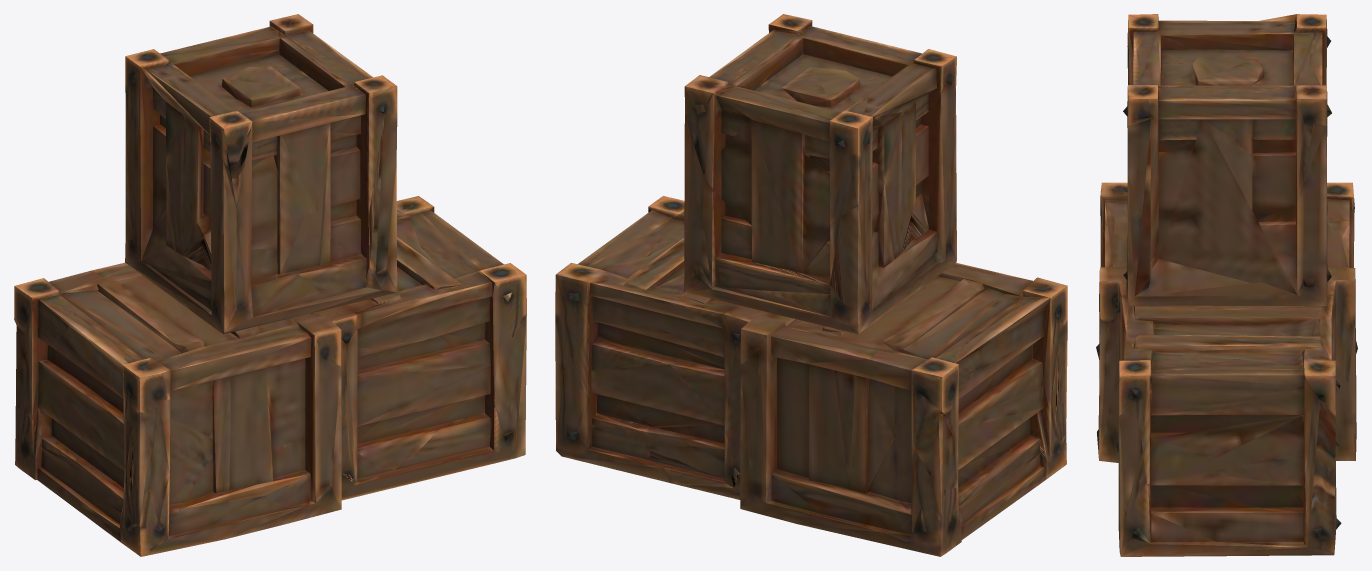
The model's file is crate-stack.low.glb.
3 views of the same model, side by side, from view 1: azimuth 30°, elevation 25°; view 2: azimuth 150°, elevation 25°; view 3: azimuth 270°, elevation 25° (orthographic).
Parts seen in each view (by area): view 1: output_unwrapped; view 2: output_unwrapped; view 3: output_unwrapped.
Boxes of the visible parts, x1=… form: output_unwrapped: x1=14, y1=14, x2=526, y2=556; output_unwrapped: x1=555, y1=14, x2=1067, y2=556; output_unwrapped: x1=1096, y1=14, x2=1357, y2=556.
Bounding box in the file's own units: 1.89 × 1.79 × 1.06.
1 material, 1 textured.
